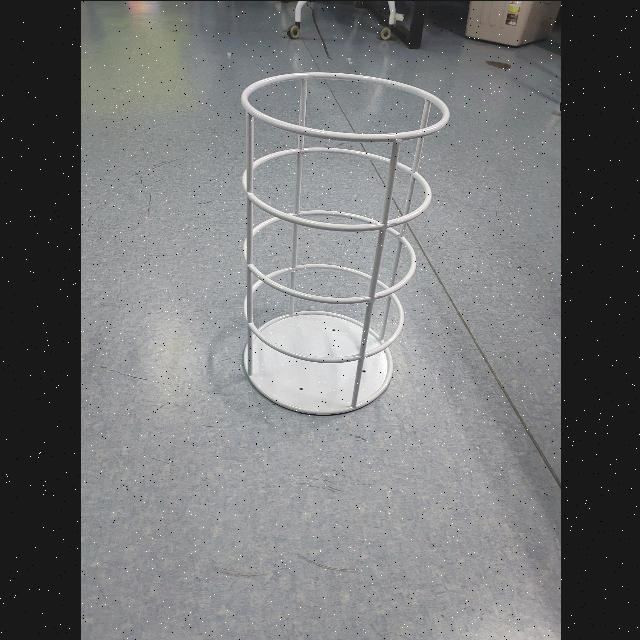S: (233, 64, 452, 422)
